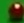brown: (0, 0, 24, 23)
